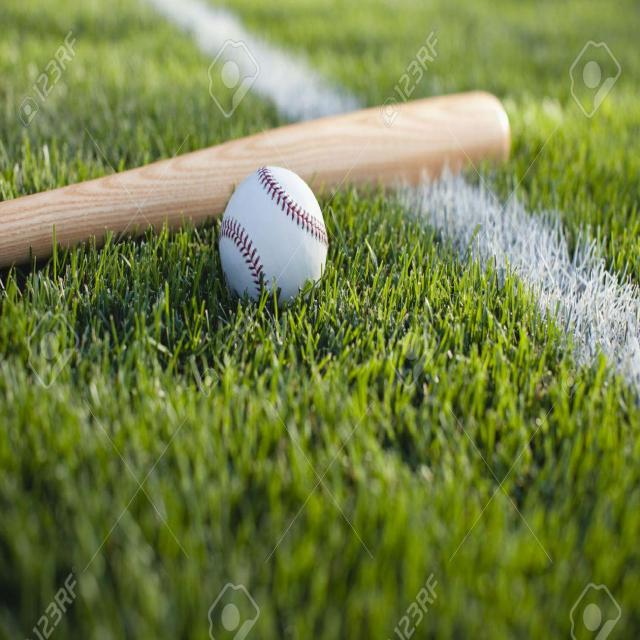baseball: (217, 164, 327, 312)
